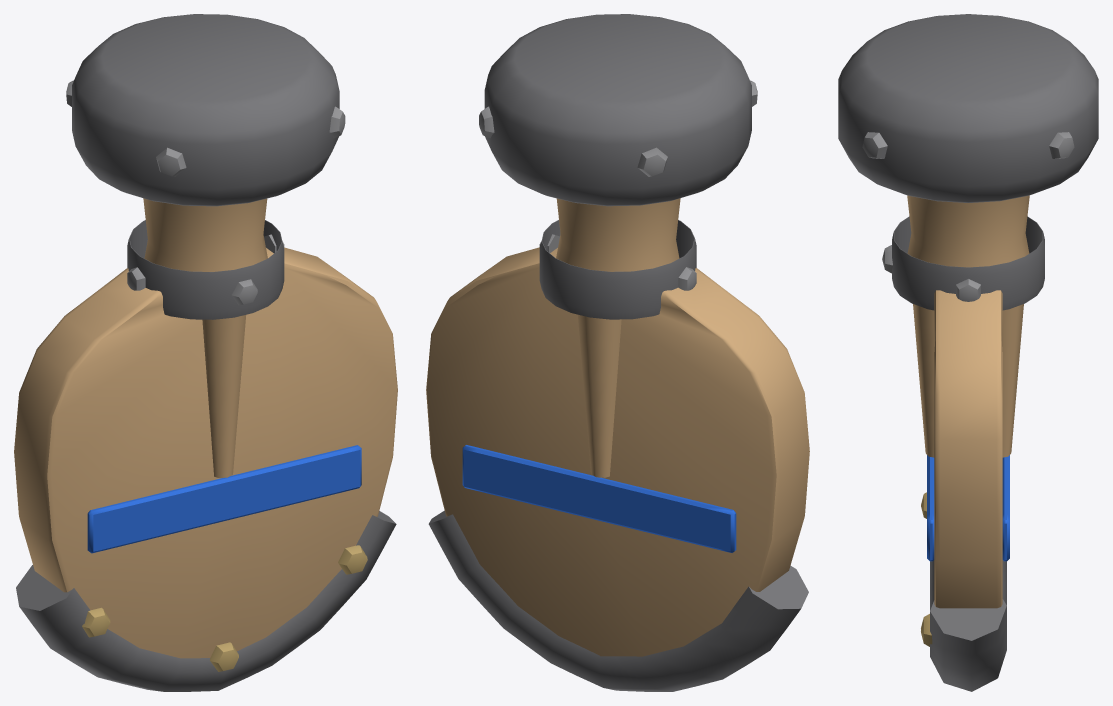
File: Kit_Hand_Paddle.glb
The picture shows the model from 3 angles, left to right: view 1: azimuth 30°, elevation 25°; view 2: azimuth 150°, elevation 25°; view 3: azimuth 270°, elevation 25°; orthographic projection.
Visible parts, largest first — view 1: Kit_Hand_Paddle; view 2: Kit_Hand_Paddle; view 3: Kit_Hand_Paddle.
Part boxes in pixels (x1,y1,x2,y2): Kit_Hand_Paddle: (14, 14, 397, 691); Kit_Hand_Paddle: (426, 14, 809, 691); Kit_Hand_Paddle: (838, 14, 1098, 691).
Size of the model in its own units: 0.1466 by 0.2394 by 0.0911.
